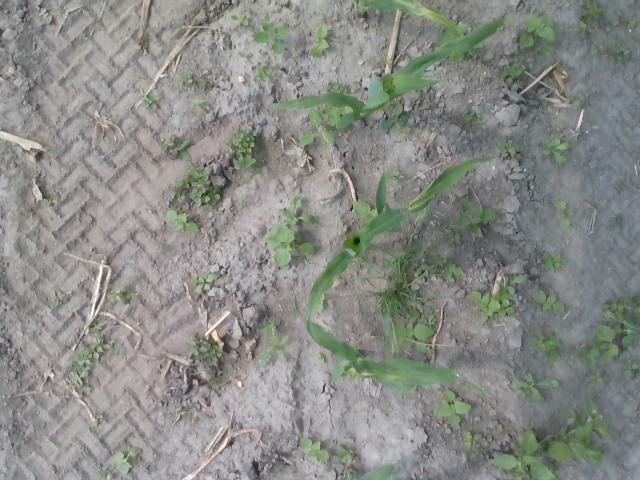Maize: (305, 154, 499, 352), (272, 13, 509, 130), (293, 294, 490, 396), (354, 0, 474, 57), (335, 463, 394, 480)
Weeds: (360, 196, 442, 321), (488, 396, 610, 480), (575, 295, 640, 369), (472, 274, 526, 324), (256, 320, 300, 376), (63, 336, 112, 385), (168, 164, 220, 206), (266, 224, 314, 267), (434, 20, 484, 61), (518, 13, 555, 64), (386, 309, 436, 345), (297, 106, 338, 147), (226, 128, 261, 174), (455, 198, 498, 234), (516, 372, 560, 404), (252, 19, 290, 55), (435, 390, 472, 426), (589, 38, 633, 66), (276, 196, 316, 225), (528, 331, 564, 361), (186, 336, 222, 363), (380, 104, 410, 136), (430, 254, 466, 278), (162, 135, 192, 161), (166, 209, 199, 232), (530, 291, 566, 312), (299, 437, 330, 461), (542, 138, 570, 164), (498, 61, 527, 84), (115, 448, 139, 474), (352, 200, 378, 224), (309, 26, 329, 57), (190, 272, 218, 294), (541, 251, 568, 273), (464, 432, 482, 464), (178, 72, 206, 92), (555, 200, 574, 229), (252, 60, 274, 82), (578, 0, 602, 20), (612, 13, 640, 30), (496, 138, 520, 156), (620, 359, 640, 380), (336, 444, 357, 463), (457, 110, 483, 125), (108, 288, 132, 304), (586, 371, 605, 390), (327, 77, 348, 94), (384, 166, 404, 182), (48, 291, 66, 308), (342, 361, 358, 380), (574, 19, 588, 40), (230, 11, 249, 26), (142, 94, 160, 108), (417, 343, 435, 356), (567, 92, 582, 107), (99, 464, 113, 480), (191, 98, 205, 113), (446, 229, 462, 242), (88, 322, 105, 332), (382, 258, 396, 270), (206, 376, 218, 388), (550, 122, 564, 132), (41, 198, 58, 206), (404, 382, 419, 391), (92, 412, 104, 423), (477, 70, 487, 82), (316, 352, 326, 364), (394, 196, 408, 203), (182, 404, 194, 412), (12, 143, 23, 151), (382, 56, 391, 65), (238, 50, 248, 58), (616, 214, 624, 224), (382, 406, 392, 413), (428, 220, 438, 227)
